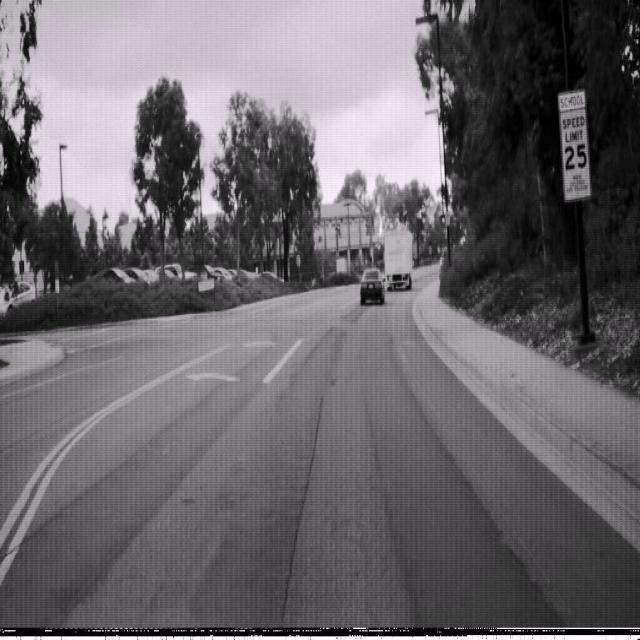speedLimit25: (557, 88, 592, 201)
